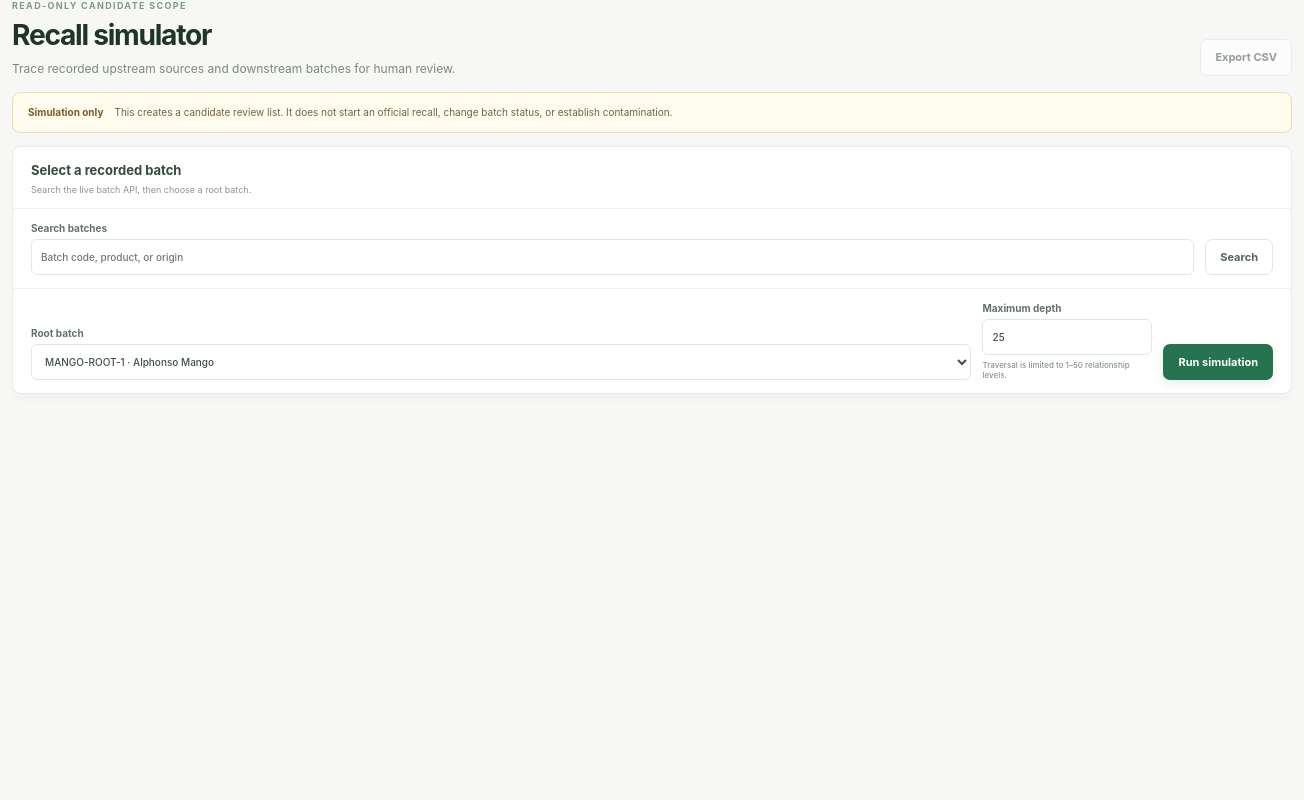
Test: RecallSimulatorDashboard › renders incomplete traversal and depth-limit warnings returned by the API
Click the button "Run simulation": (1218, 362) [1164,344,1273,380]
(page scrolled)
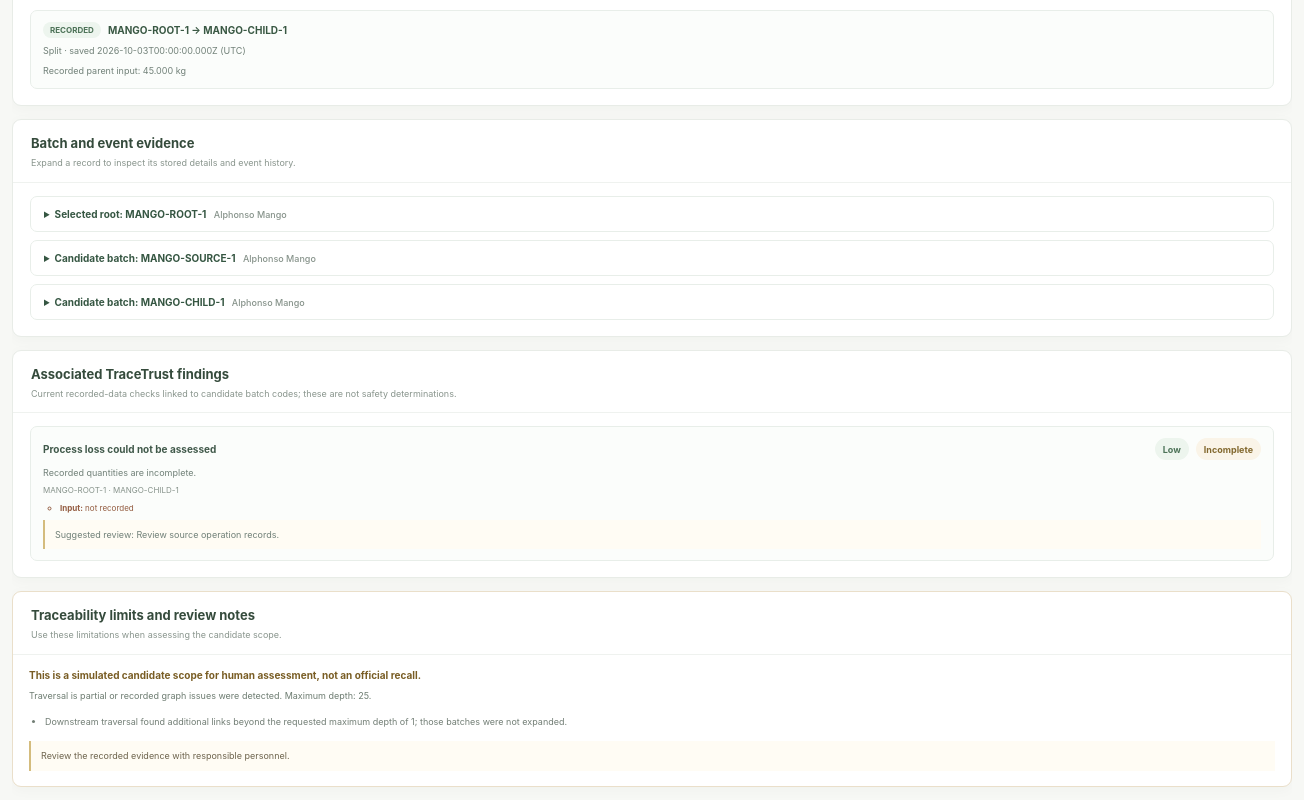
Check: the list item "additional links beyond the requested maximum depth of 1" is shown, box [45,716,567,727]
